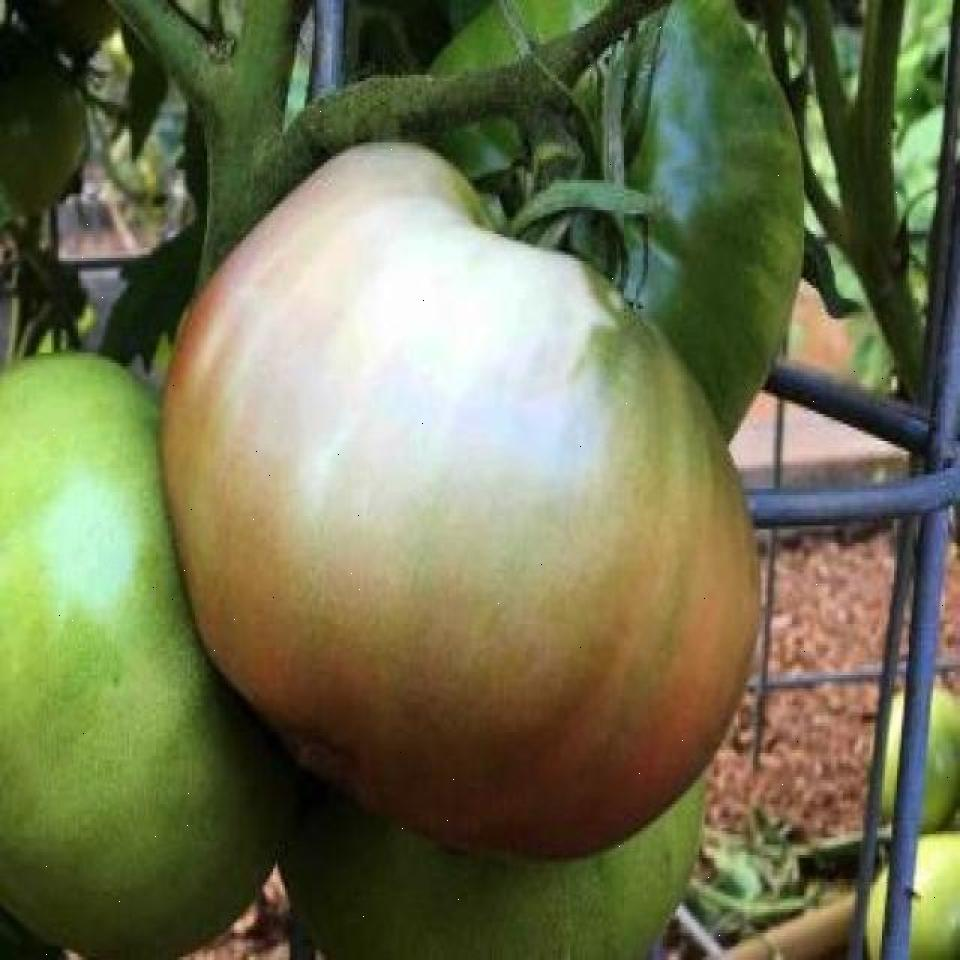Sunscald: (200, 151, 608, 562)
